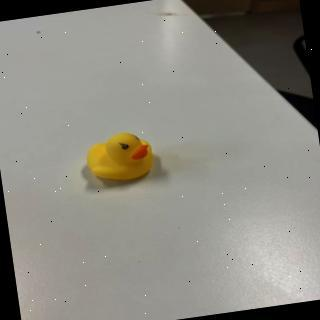duck_regular: (82, 128, 159, 187)
